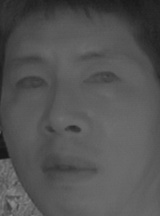eye: (80, 67, 123, 89), (12, 73, 48, 95)
mouth: (39, 149, 97, 187)
